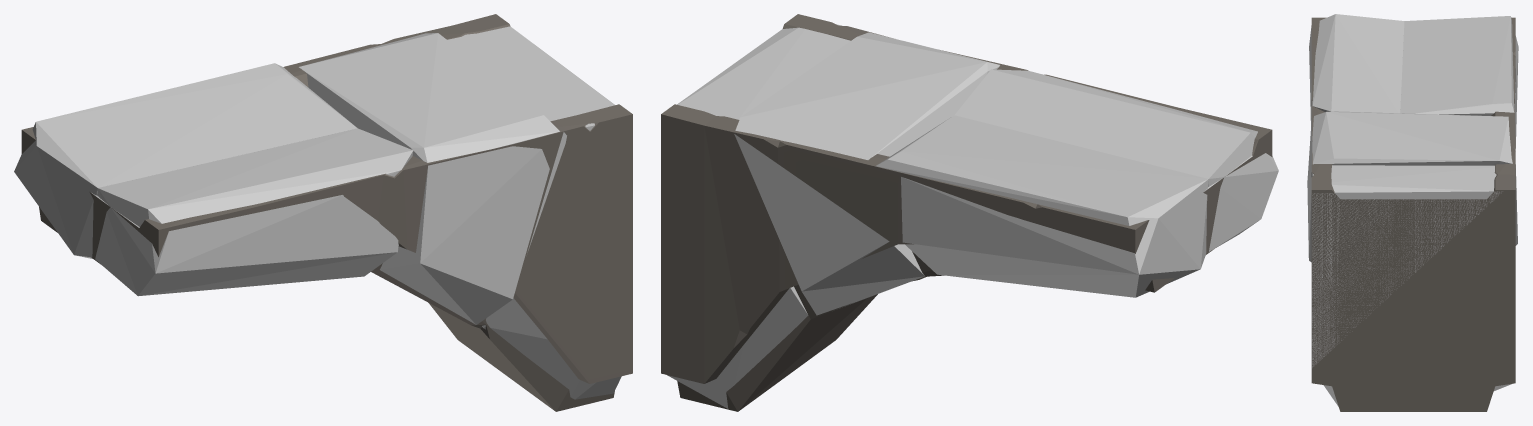
File: SM_Env_Rock_Bridge_End_01.fbx
3 renders of one model, left to right at view 1: azimuth 30°, elevation 25°; view 2: azimuth 150°, elevation 25°; view 3: azimuth 270°, elevation 25°, orthographic. The views are drawn at different scales.
Visible parts, largest first — view 1: SM_Env_Rock_Bridge_End_01_ConvexHulls, SM_Env_Rock_Bridge_End_01; view 2: SM_Env_Rock_Bridge_End_01_ConvexHulls, SM_Env_Rock_Bridge_End_01; view 3: SM_Env_Rock_Bridge_End_01, SM_Env_Rock_Bridge_End_01_ConvexHulls.
Part boxes in pixels (x1,y1,x2,y2): SM_Env_Rock_Bridge_End_01_ConvexHulls: (14, 26, 621, 399); SM_Env_Rock_Bridge_End_01: (21, 14, 632, 411); SM_Env_Rock_Bridge_End_01_ConvexHulls: (667, 24, 1278, 408); SM_Env_Rock_Bridge_End_01: (661, 14, 1272, 411); SM_Env_Rock_Bridge_End_01: (1311, 17, 1515, 411); SM_Env_Rock_Bridge_End_01_ConvexHulls: (1307, 14, 1518, 406).
Bounding box in the file's own units: 1014 × 518 × 616.
